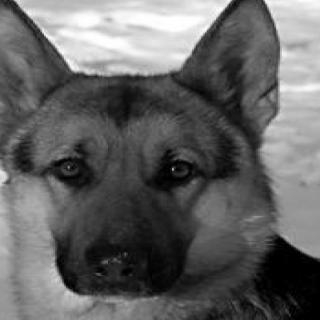dog: (0, 0, 293, 305)
nose: (83, 234, 155, 281)
